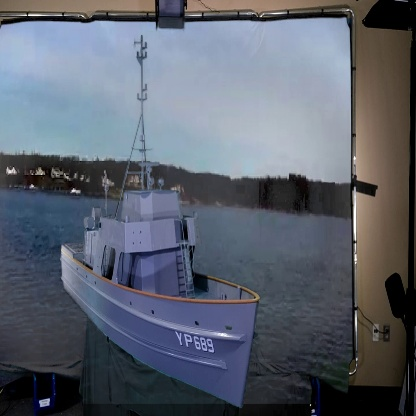YP689: (58, 34, 263, 407)
